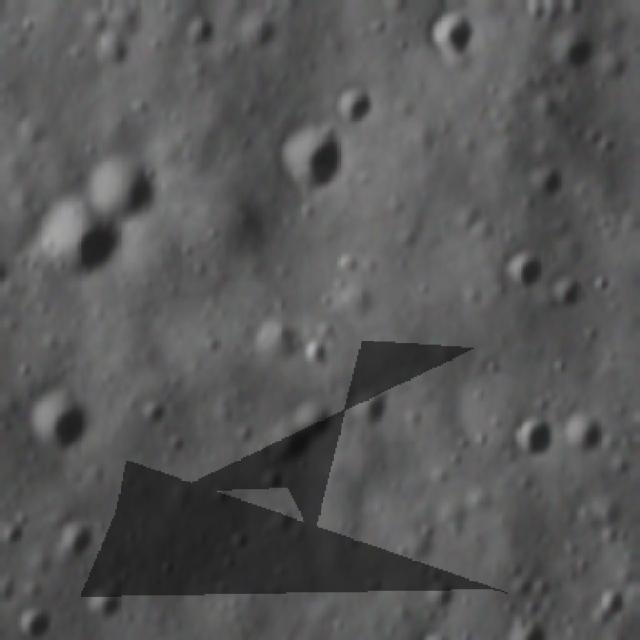crater: (33, 200, 121, 291), (274, 123, 364, 200), (266, 386, 348, 469), (95, 146, 170, 220), (27, 382, 101, 455), (425, 10, 487, 62), (559, 400, 612, 458), (343, 376, 394, 436), (250, 312, 304, 366), (502, 238, 550, 297), (508, 408, 560, 462), (77, 579, 132, 630), (60, 516, 109, 570), (325, 84, 381, 131), (236, 2, 290, 49), (551, 23, 598, 74), (528, 154, 569, 203), (546, 271, 589, 317), (594, 578, 634, 624), (295, 333, 337, 376), (95, 32, 138, 72), (183, 11, 228, 49), (15, 598, 54, 640), (505, 612, 552, 640), (0, 513, 35, 549), (141, 398, 173, 424), (416, 623, 458, 640), (0, 250, 15, 295), (76, 638, 124, 640), (334, 638, 372, 640)
